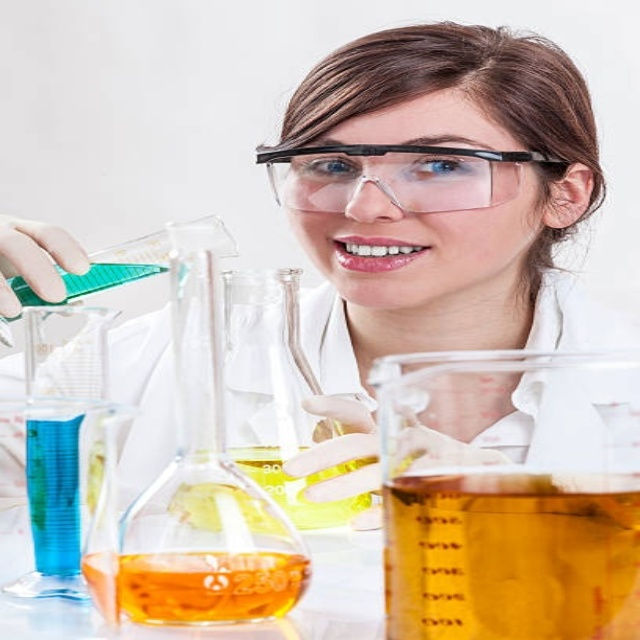Gafas: (257, 146, 559, 216)
Guantes: (281, 392, 375, 541), (3, 210, 97, 319)
Sin_mascara: (317, 225, 444, 293)
